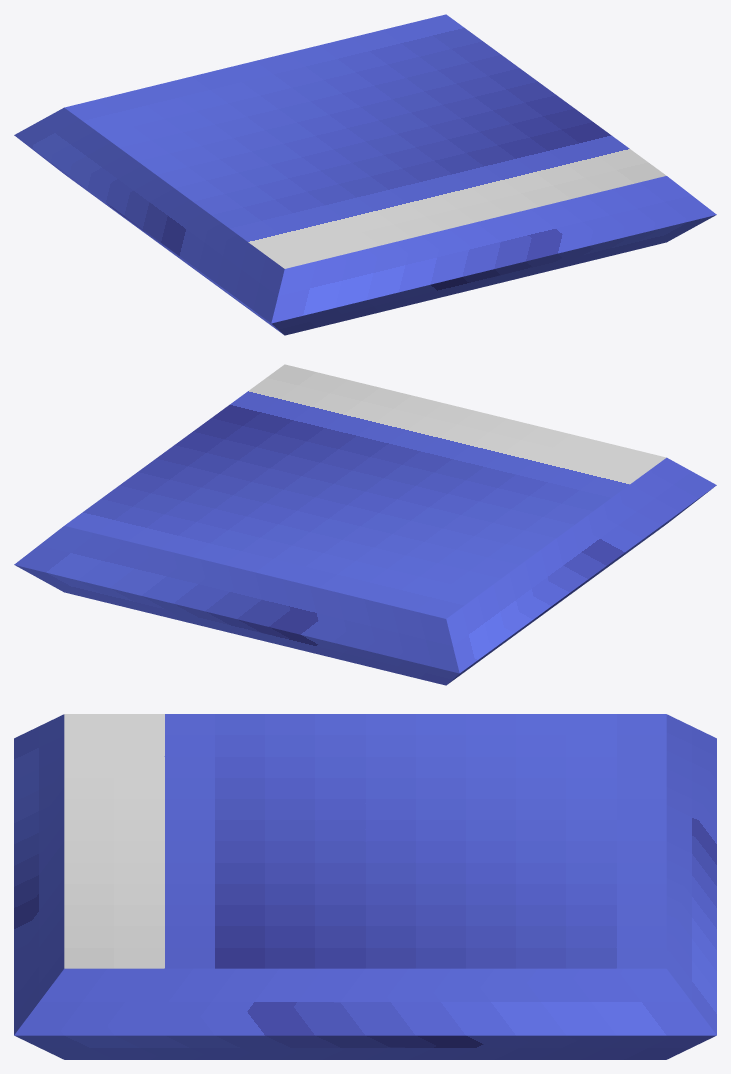
Rendered from MNM_NN_COV.obj.
3 renders of one model, top to bottom at view 1: azimuth 30°, elevation 25°; view 2: azimuth 150°, elevation 25°; view 3: azimuth 270°, elevation 25°, orthographic. The views are drawn at different scales.
Visible parts, largest first — view 1: Cube.005_Cube.007; view 2: Cube.005_Cube.007; view 3: Cube.005_Cube.007.
Boxes of the visible parts, box(x1,y1,x2,y2) form: Cube.005_Cube.007: box(14, 14, 716, 335); Cube.005_Cube.007: box(14, 364, 716, 685); Cube.005_Cube.007: box(14, 714, 716, 1059).
Bounding box in the file's own units: 7 × 1 × 7.
1 material, 1 textured.
